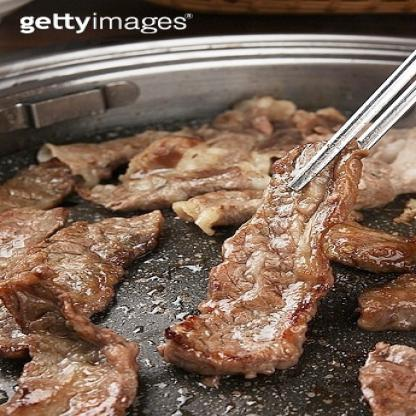Carne: (178, 140, 367, 381), (0, 265, 135, 415), (25, 206, 154, 320), (0, 160, 80, 257), (353, 344, 415, 415), (80, 164, 187, 203), (363, 266, 415, 331)
